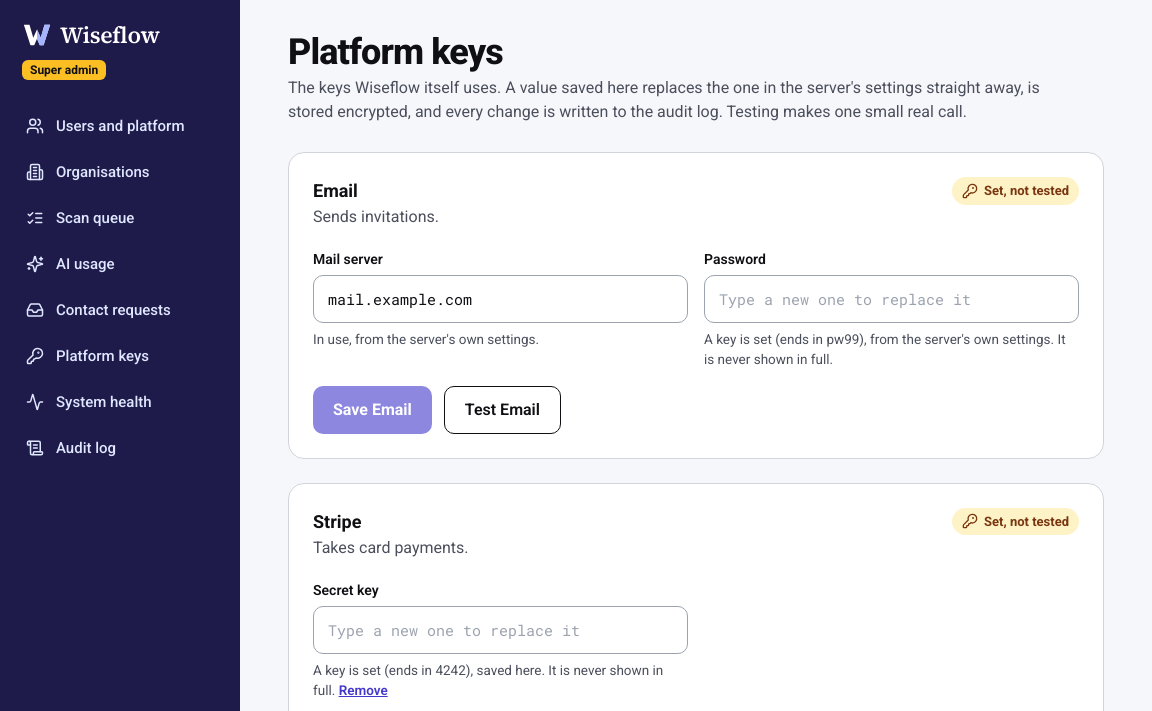
Test: AdminKeysPage › removes a key saved here, so the server's own applies again
Click the button named "Remove Secret key" at (363, 690), box [339,680,388,700]
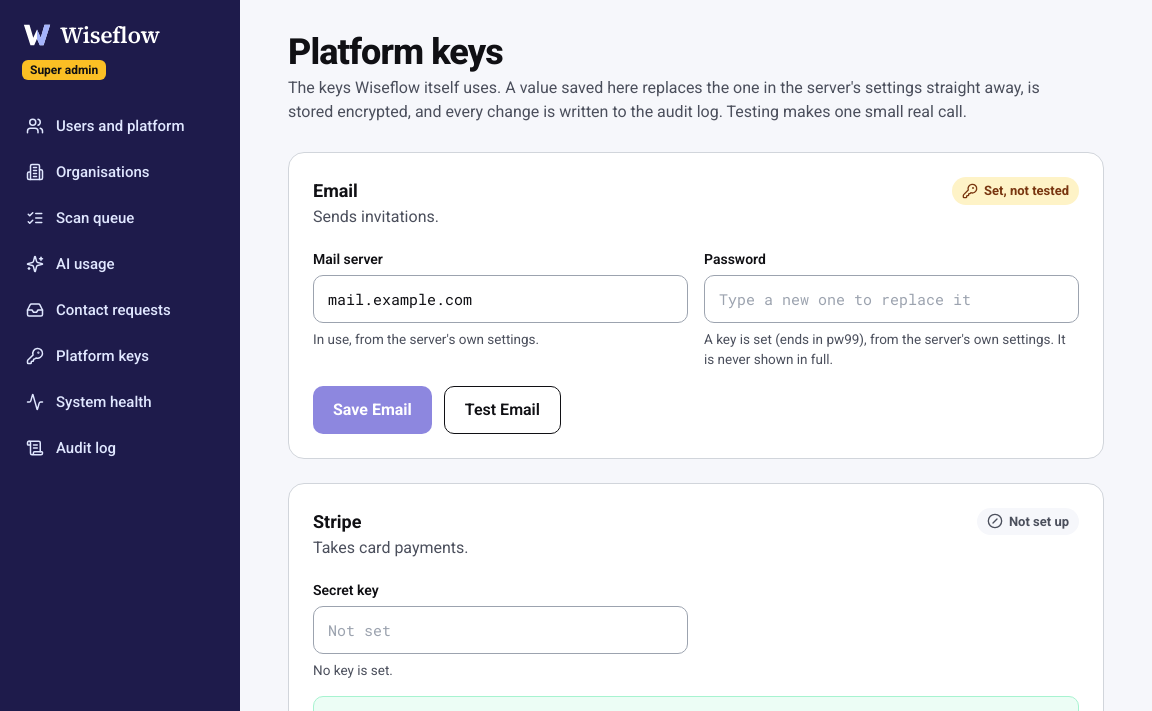
Now the text "Not set up" is shown, box [977,508,1079,535]
